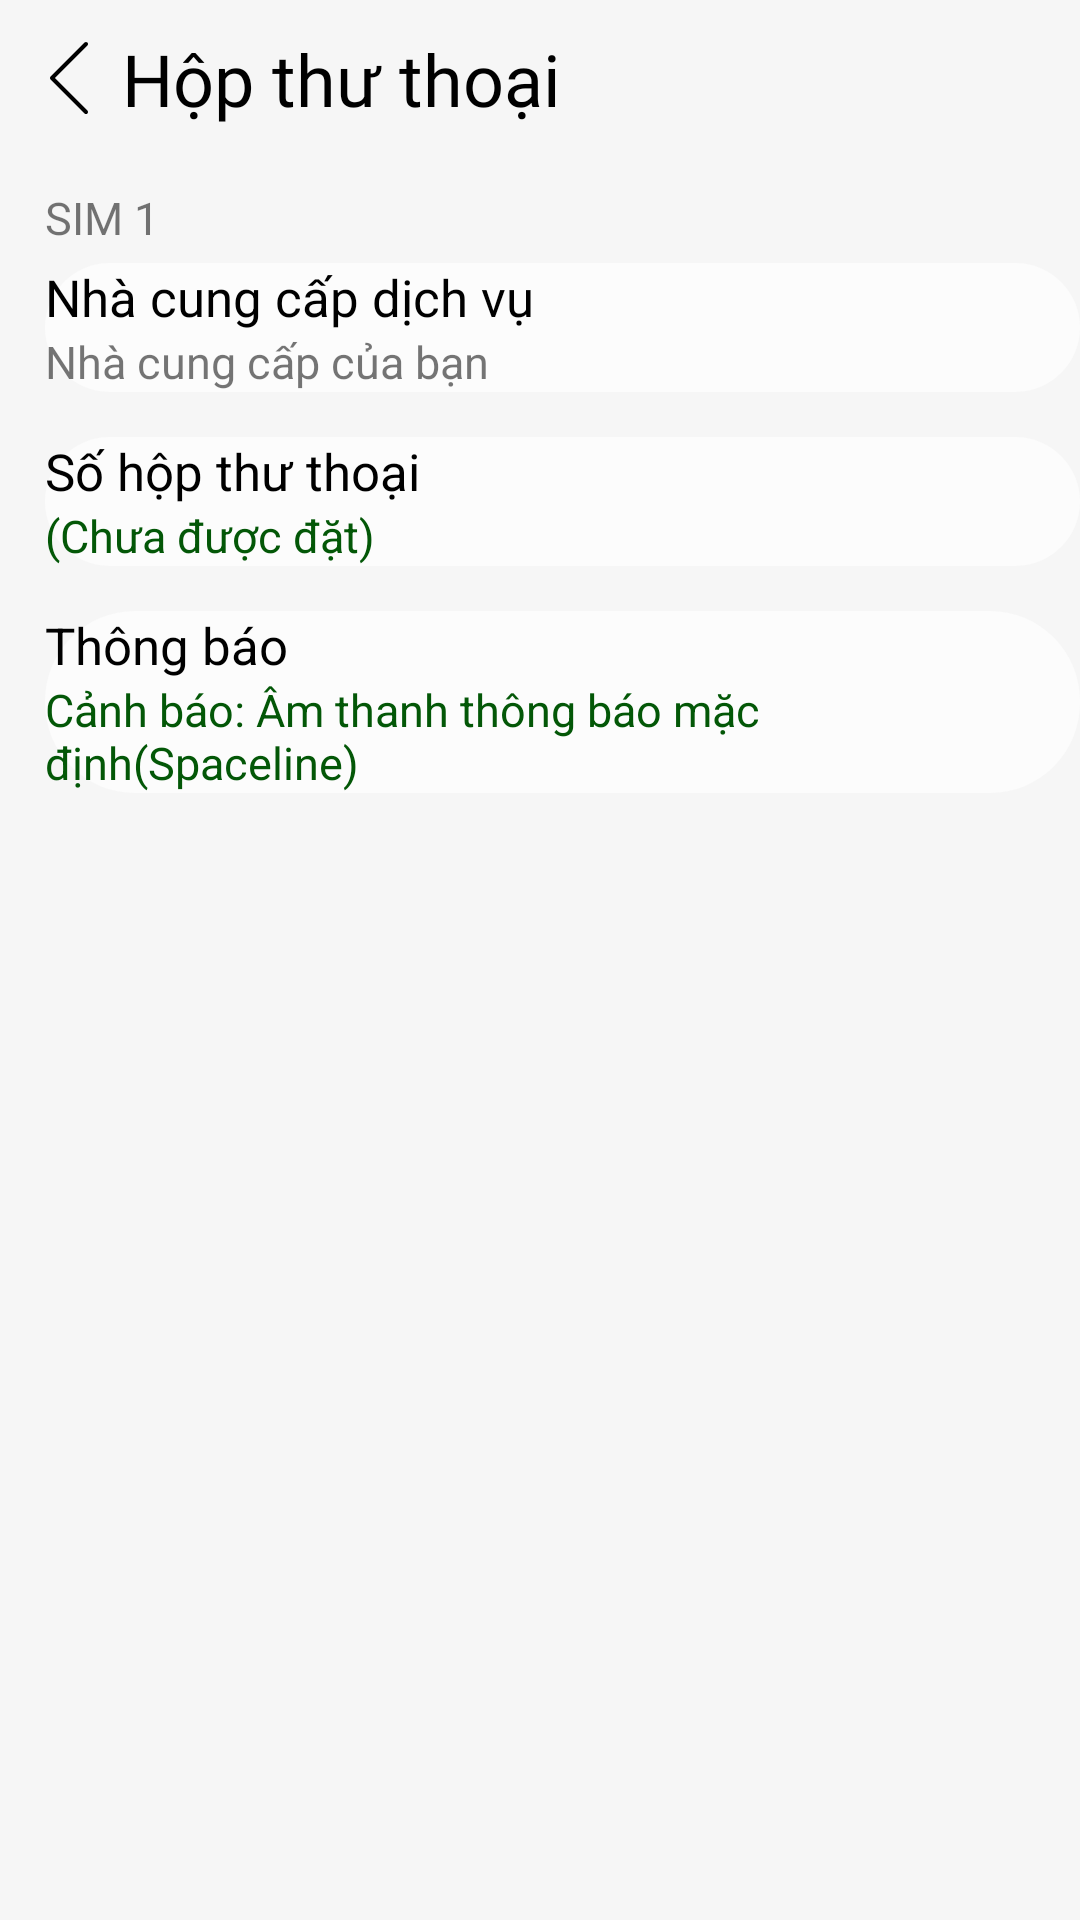

Named icons in this screenshot (1080×1920) and their centers, [x,y]:
backmsg: [69,78]
